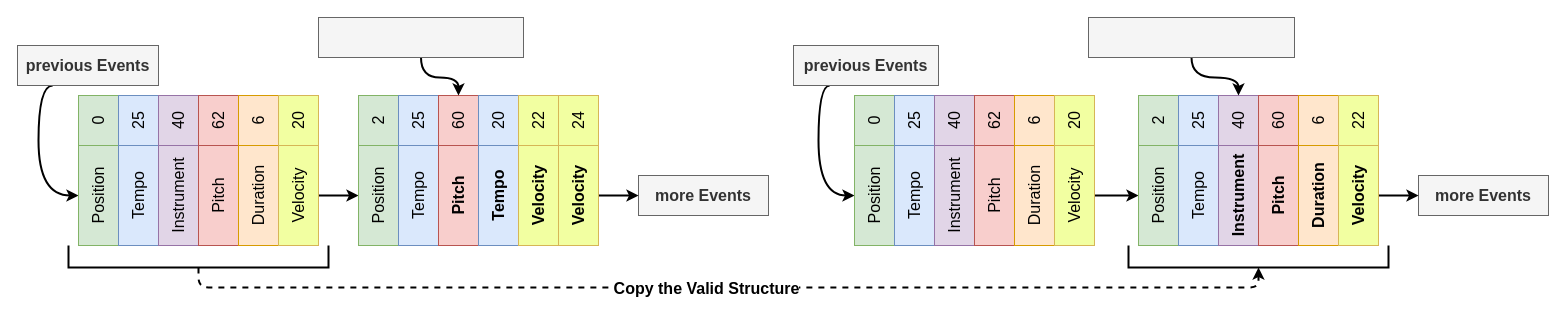
This 1566x315 diagram has some shape labels left out. The centre of each missing label's shape, as x and y in pixels:
ERROR starts from here: the point at 421,37
New structure from here: the point at 1191,37
